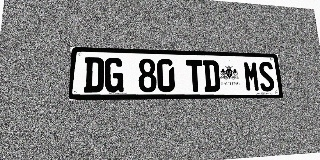0: (157, 59, 175, 92)
8: (138, 58, 157, 92)
D: (83, 57, 104, 93), (203, 60, 220, 92)
G: (104, 58, 124, 92)
M: (243, 61, 260, 92)
S: (258, 61, 275, 91)
T: (186, 60, 204, 92)
